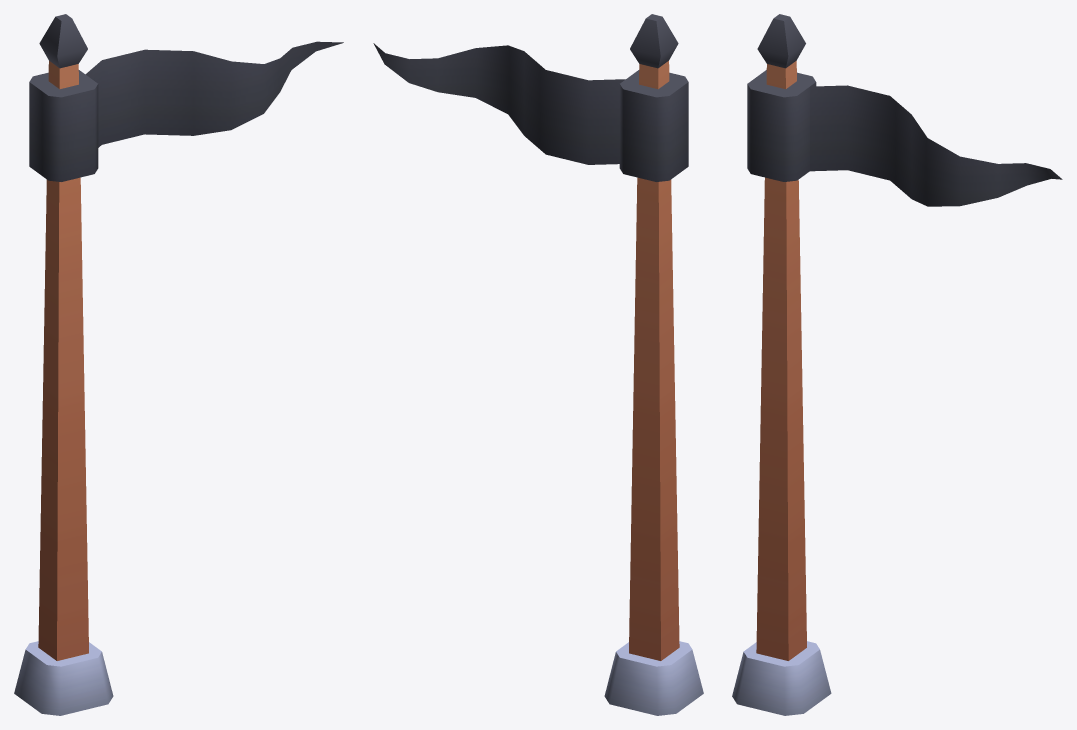
File: flag-pirate-high-pennant.glb
The picture shows the model from 3 angles, left to right: view 1: azimuth 30°, elevation 25°; view 2: azimuth 150°, elevation 25°; view 3: azimuth 330°, elevation 25°; orthographic projection.
Visible parts, largest first — view 1: flag-pirate-high-pennant; view 2: flag-pirate-high-pennant; view 3: flag-pirate-high-pennant.
Part boxes in pixels (x1=…): flag-pirate-high-pennant: x1=14, y1=14, x2=343, y2=715; flag-pirate-high-pennant: x1=373, y1=14, x2=703, y2=715; flag-pirate-high-pennant: x1=732, y1=14, x2=1062, y2=715.
Size of the model in its own units: 1.76 by 3.6 by 0.3987.
1 material, 1 textured.
